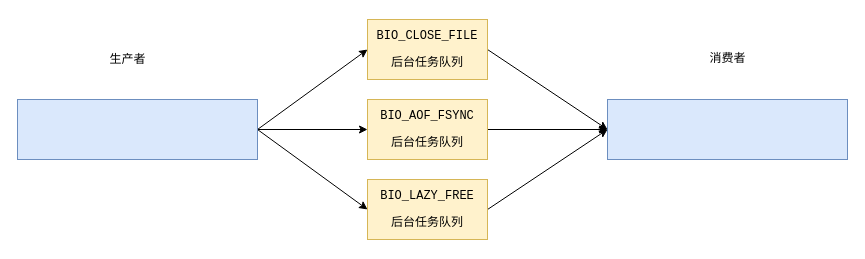
The diagram is 865 pixels wide and 259 high, and some of its shapes have lost their labels. The centre of each missing label's shape, as x and y in pixels:
"bio.c/bioCreateBackgroundJob 创建后台任务" belongs at pixel 137 129.
"bio.c/bioProcessBackgroundJobs 处理后台任务" belongs at pixel 727 129.
